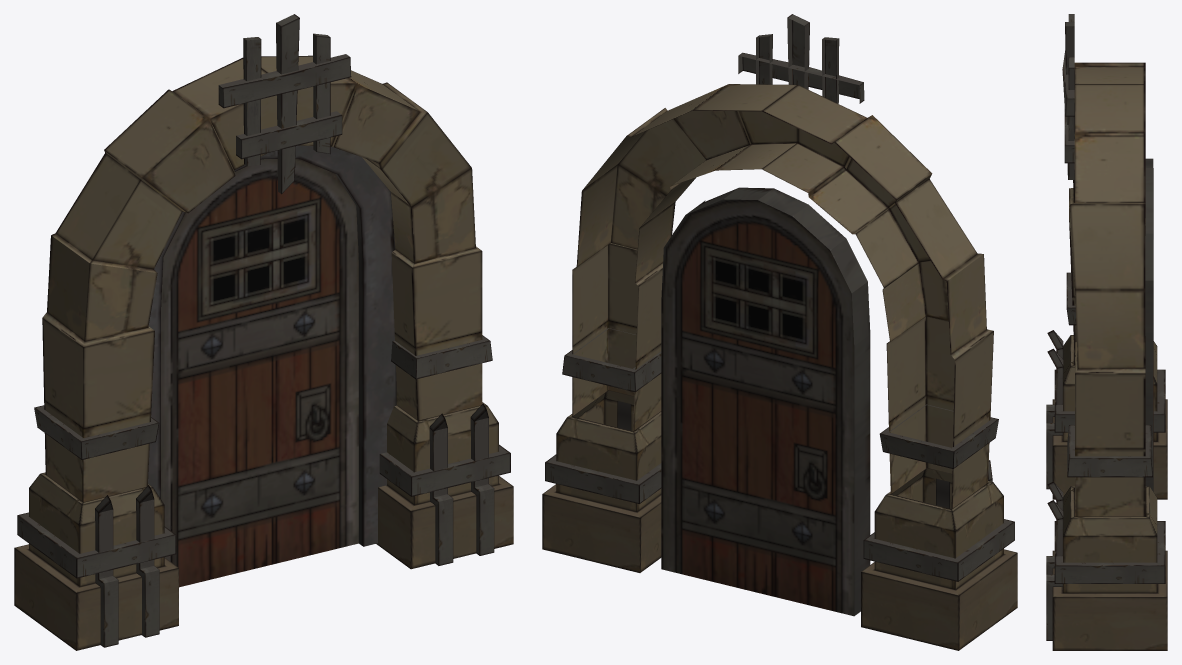
Rendered from 2_DG_JYMen_01.FBX.
3 renders of one model, left to right at view 1: azimuth 30°, elevation 25°; view 2: azimuth 150°, elevation 25°; view 3: azimuth 270°, elevation 25°, orthographic. The views are drawn at different scales.
Parts seen in each view (by area): view 1: 2_DG_JYMen_01, 2_DG_JYMen_02, 2_DG_JYMen_03; view 2: 2_DG_JYMen_01, 2_DG_JYMen_02, 2_DG_JYMen_03; view 3: 2_DG_JYMen_01, 2_DG_JYMen_02, 2_DG_JYMen_03.
Boxes of the visible parts, <box> form: 2_DG_JYMen_01: <box>14,55,513,650</box>; 2_DG_JYMen_02: <box>161,158,358,587</box>; 2_DG_JYMen_03: <box>218,14,351,194</box>; 2_DG_JYMen_01: <box>542,84,1017,650</box>; 2_DG_JYMen_02: <box>661,187,870,616</box>; 2_DG_JYMen_03: <box>738,14,864,103</box>; 2_DG_JYMen_01: <box>1046,62,1167,650</box>; 2_DG_JYMen_02: <box>1145,158,1153,491</box>; 2_DG_JYMen_03: <box>1062,14,1074,179</box>.
Size of the model in its own units: 551 by 690 by 143.
